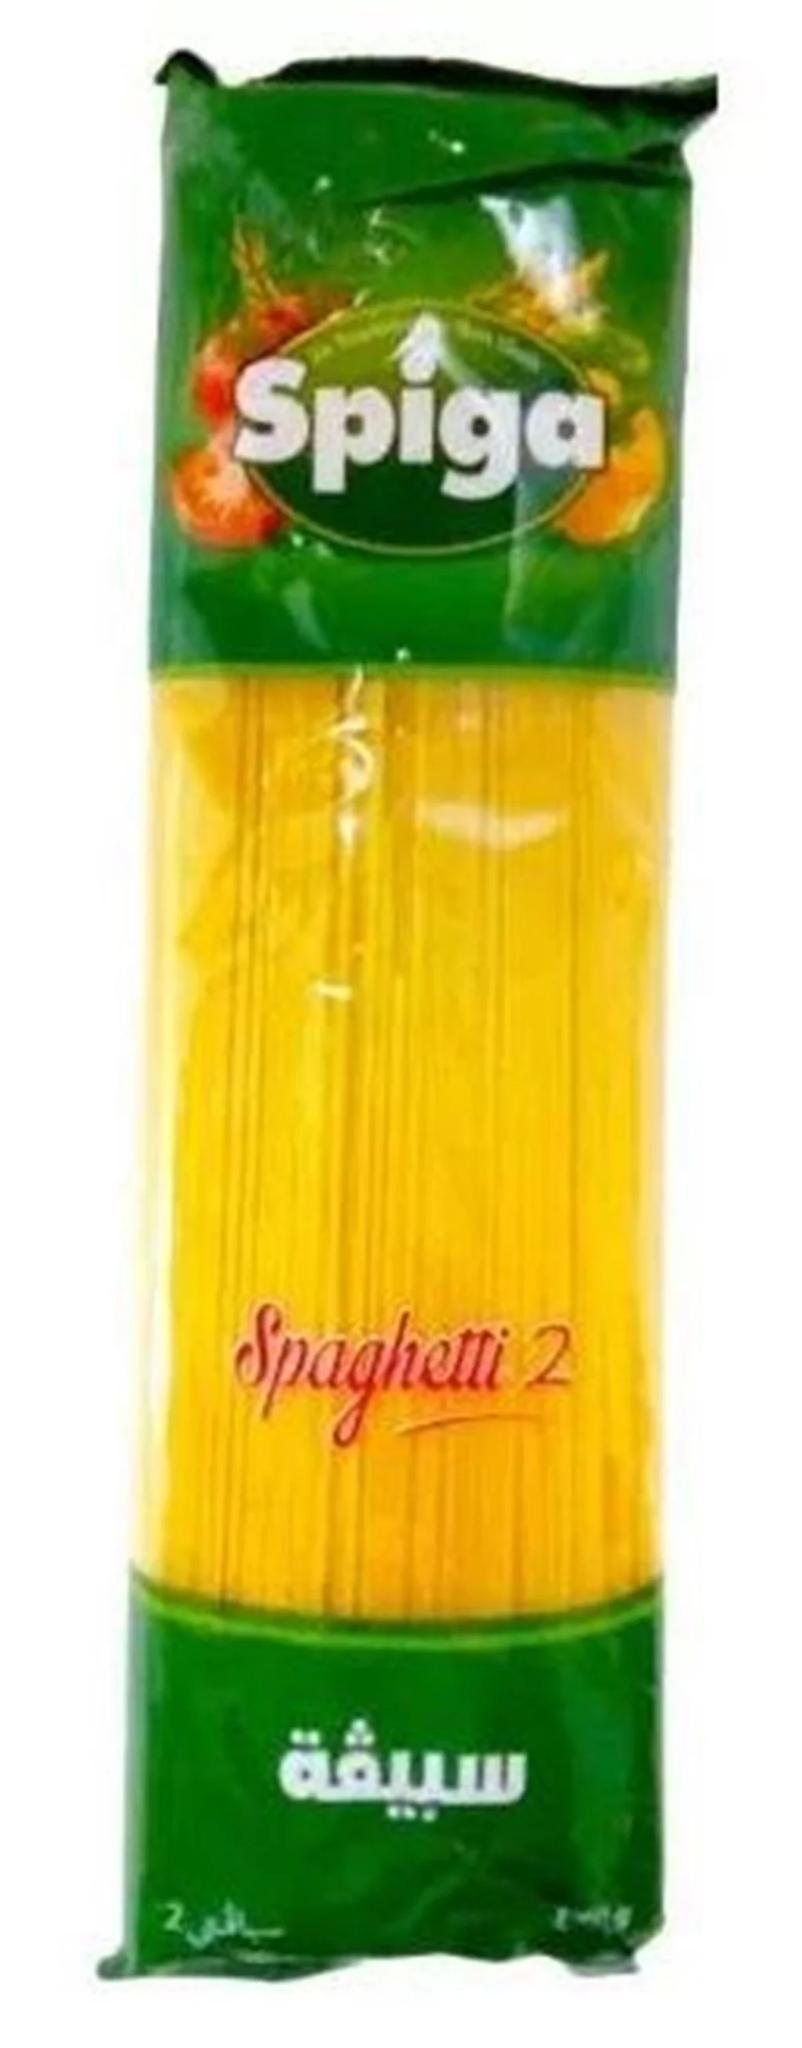Spaghetti: (114, 52, 718, 1976)
